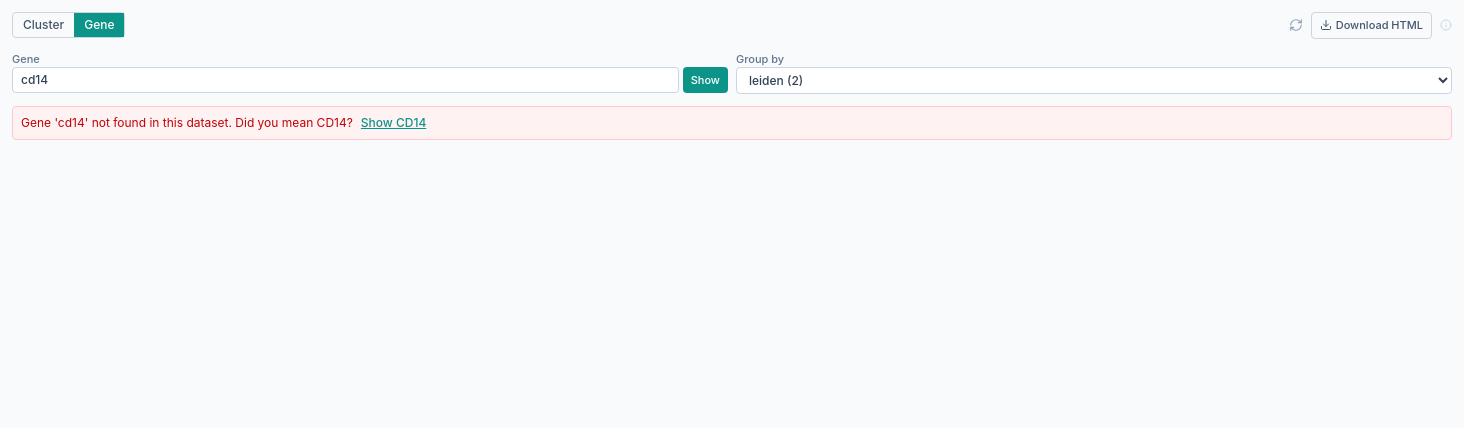
Test case: ReportSubtab › an unknown gene offers the close match
The image size is (1464, 428).
Check: the message shows "Gene 'cd14' not found in this dataset. Did you mean CD14?", box [21, 115, 353, 130]
Click the button "Show CD14" at (394, 123), box [361, 115, 426, 131]
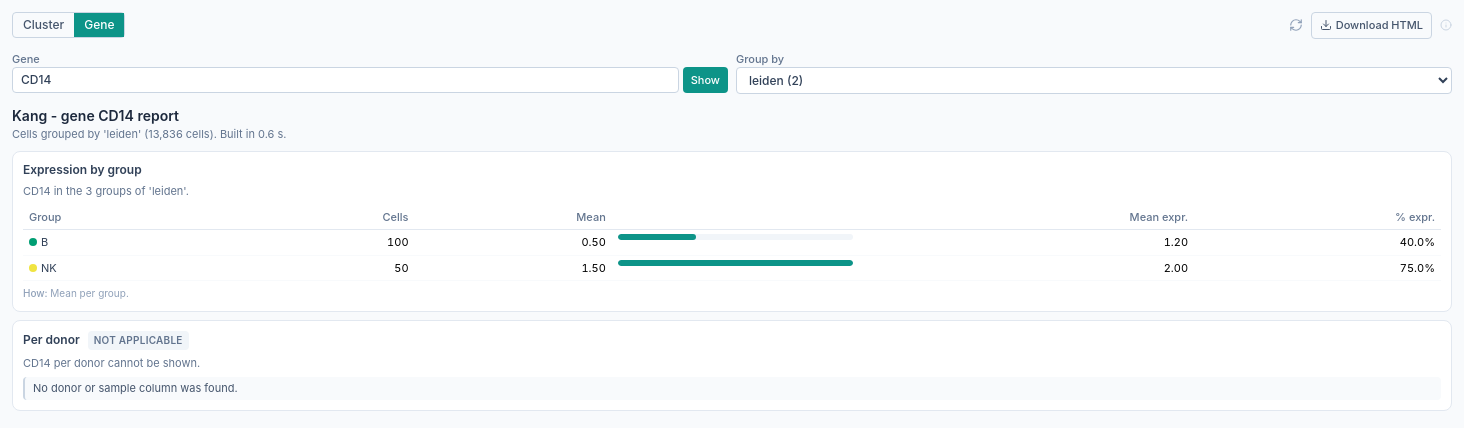
Check: the heading "Kang - gene CD14 report" is shown, box [12, 107, 179, 124]
